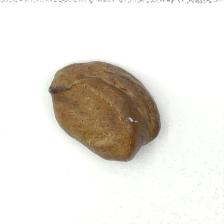NG: (47, 83, 133, 162)
